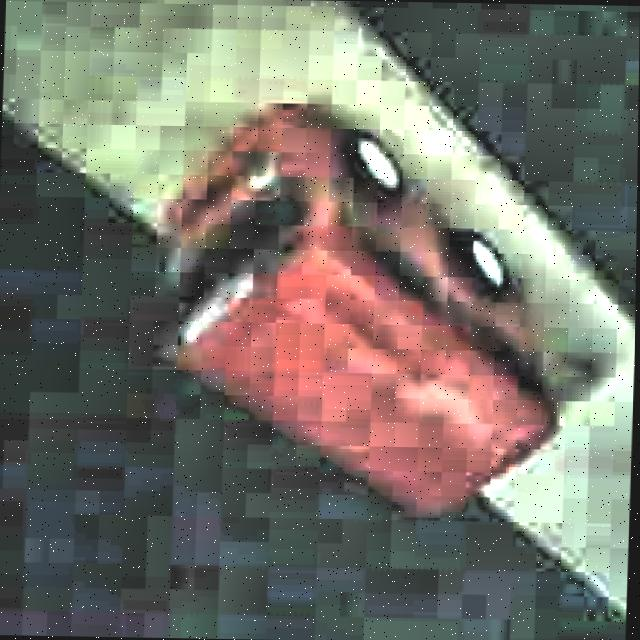bus: (154, 98, 572, 524)
